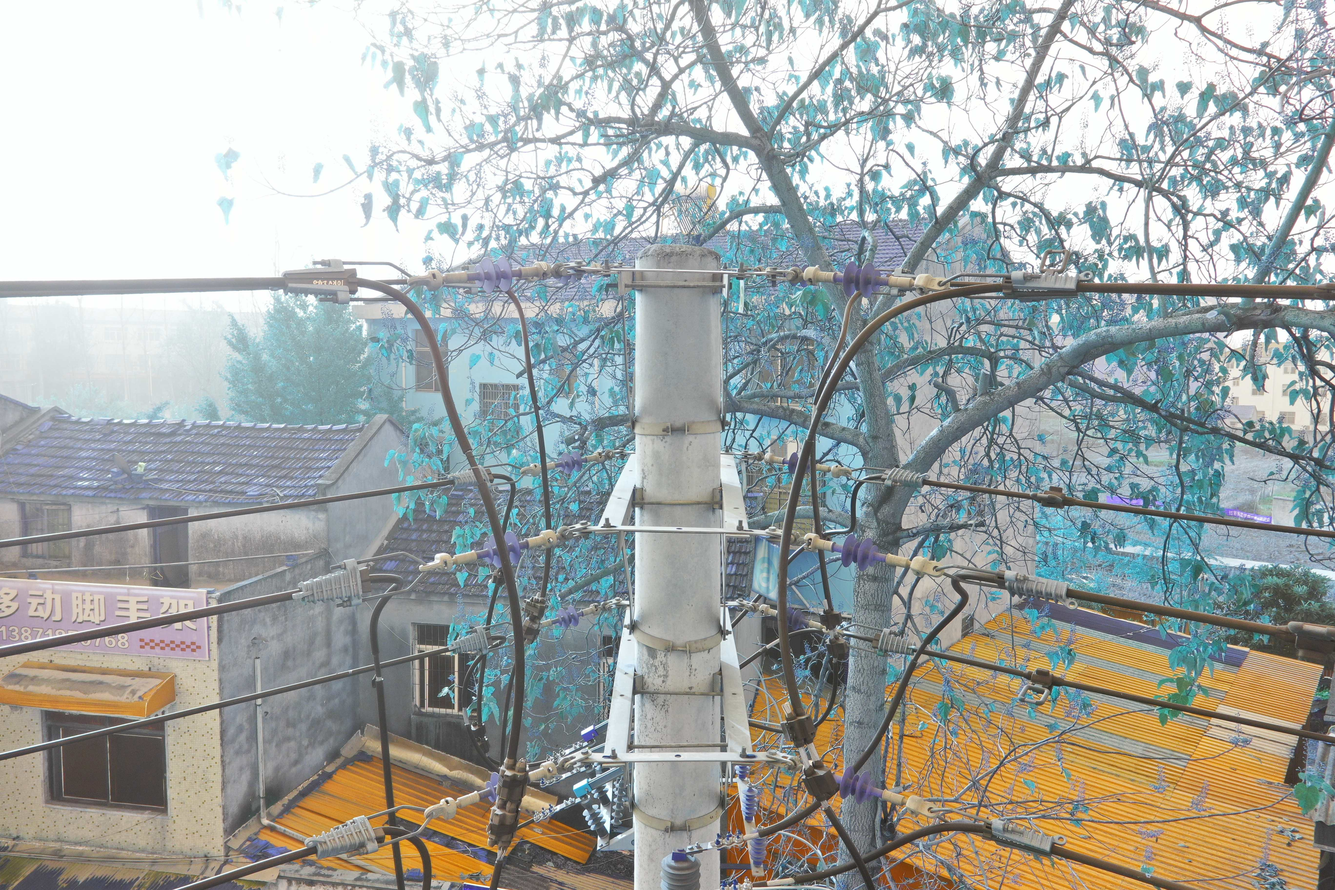severe_soiling_no_discharge_whole: (783, 762, 793, 773)
